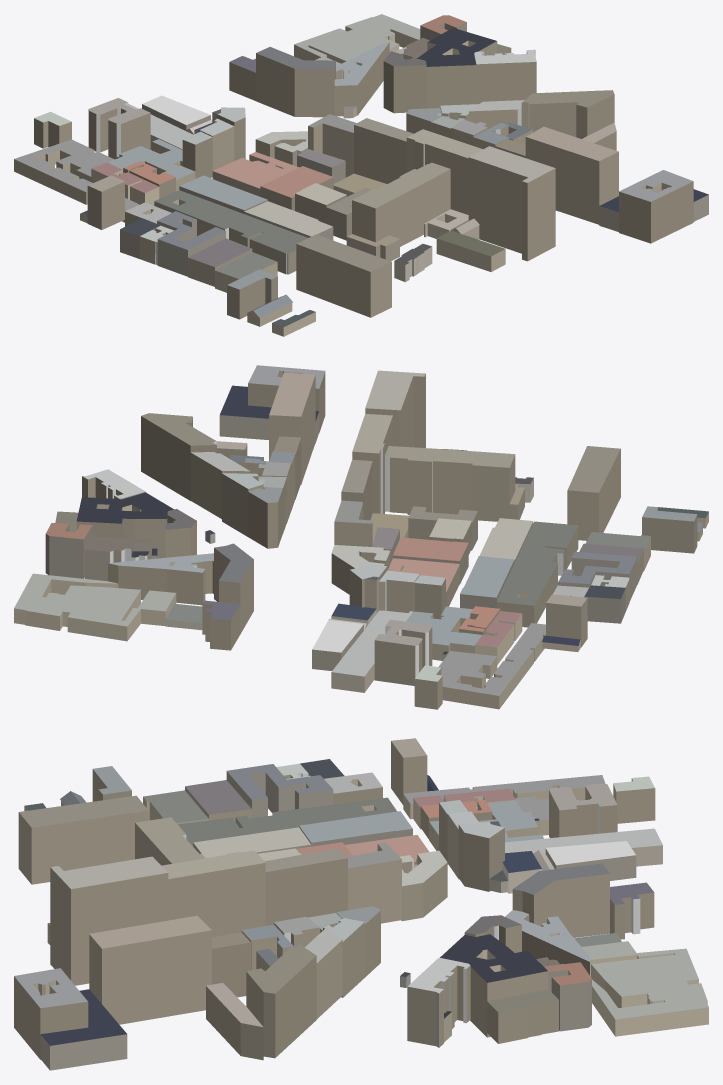
3 renders of one model, top to bottom at view 1: azimuth 30°, elevation 25°; view 2: azimuth 150°, elevation 25°; view 3: azimuth 270°, elevation 25°, orthographic. The views are drawn at different scales.
Visible parts, largest first — view 1: tuile; view 2: tuile; view 3: tuile.
Part boxes in pixels (x1,y1,x2,y2): tuile: (14,14,708,336); tuile: (14,365,708,709); tuile: (14,738,708,1070).
Size of the model in its own units: 274 by 46.2 by 279.
